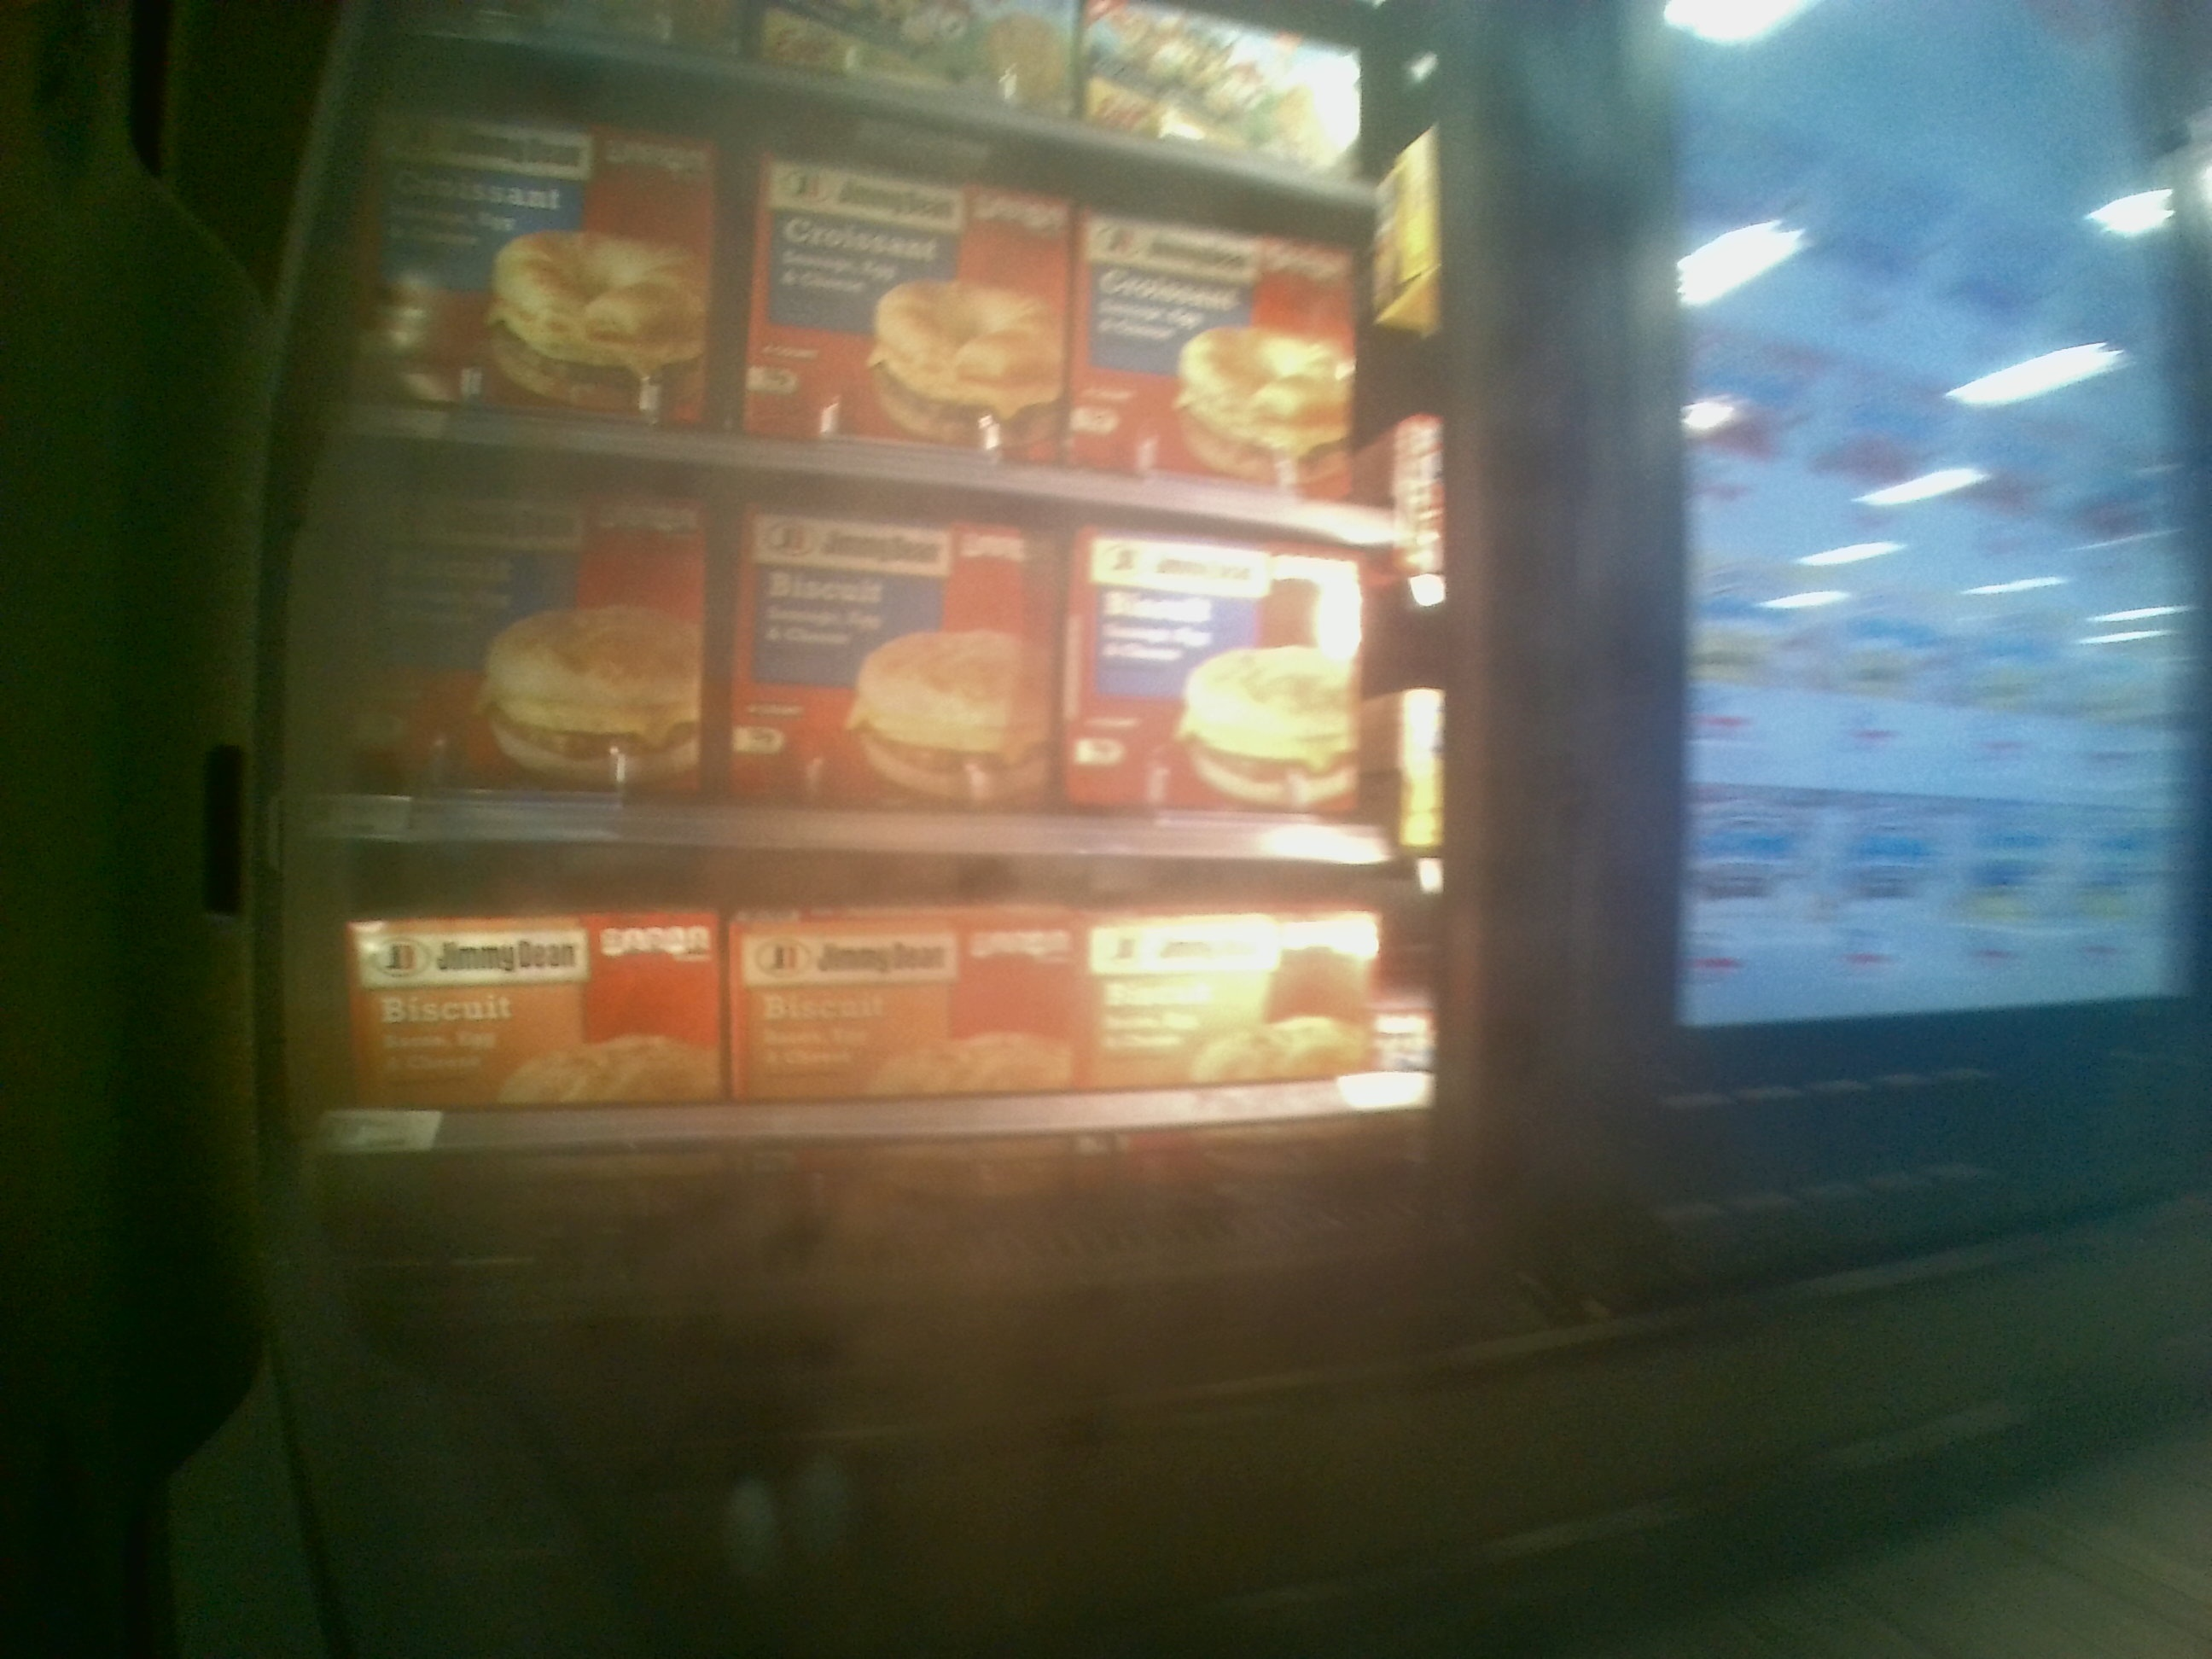shelf: (347, 432, 1416, 877), (301, 843, 1460, 1230)
